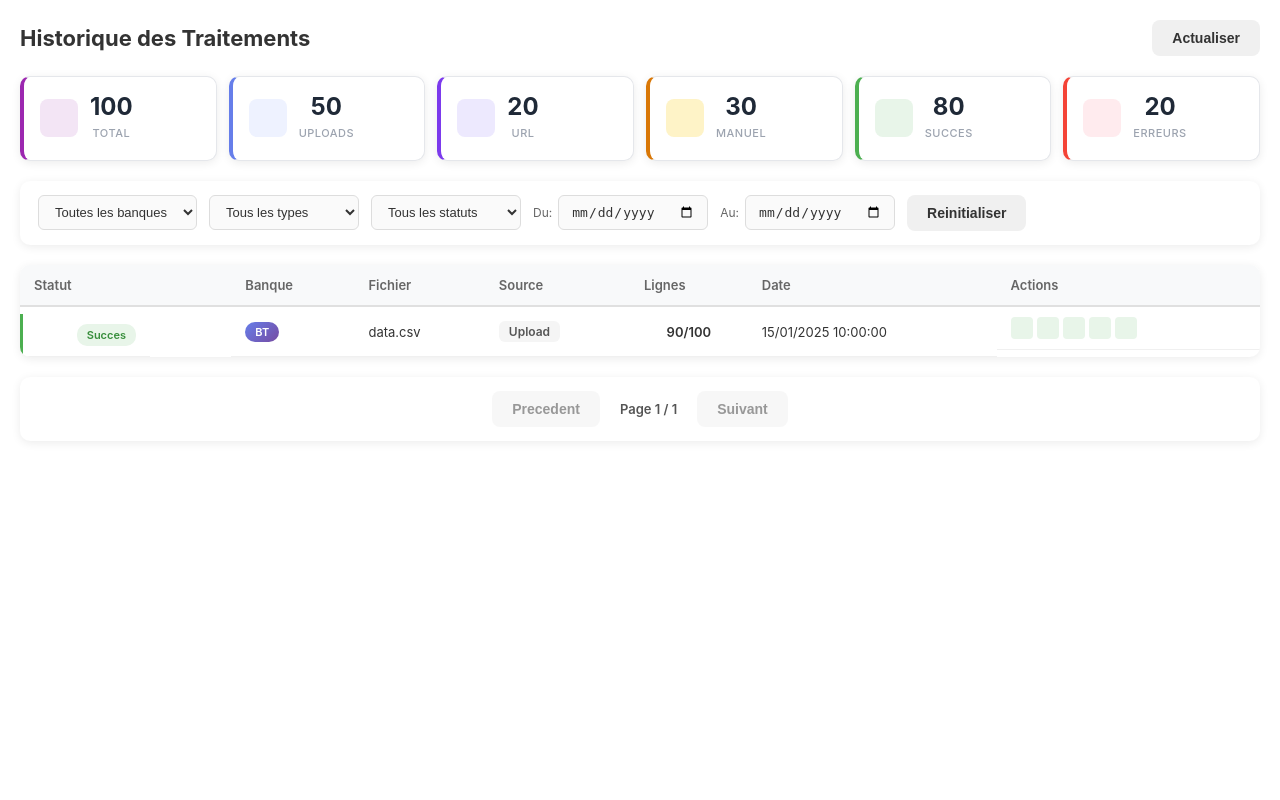
Test case: History › expands row details showing file paths, statuses, and step labels
The width and height of the screenshot is (1280, 800).
Expected: the heading "Historique des Traitements" is shown, [20, 25, 310, 51]
Click the text "data.csv".
click(420, 331)  # box [354, 306, 485, 357]
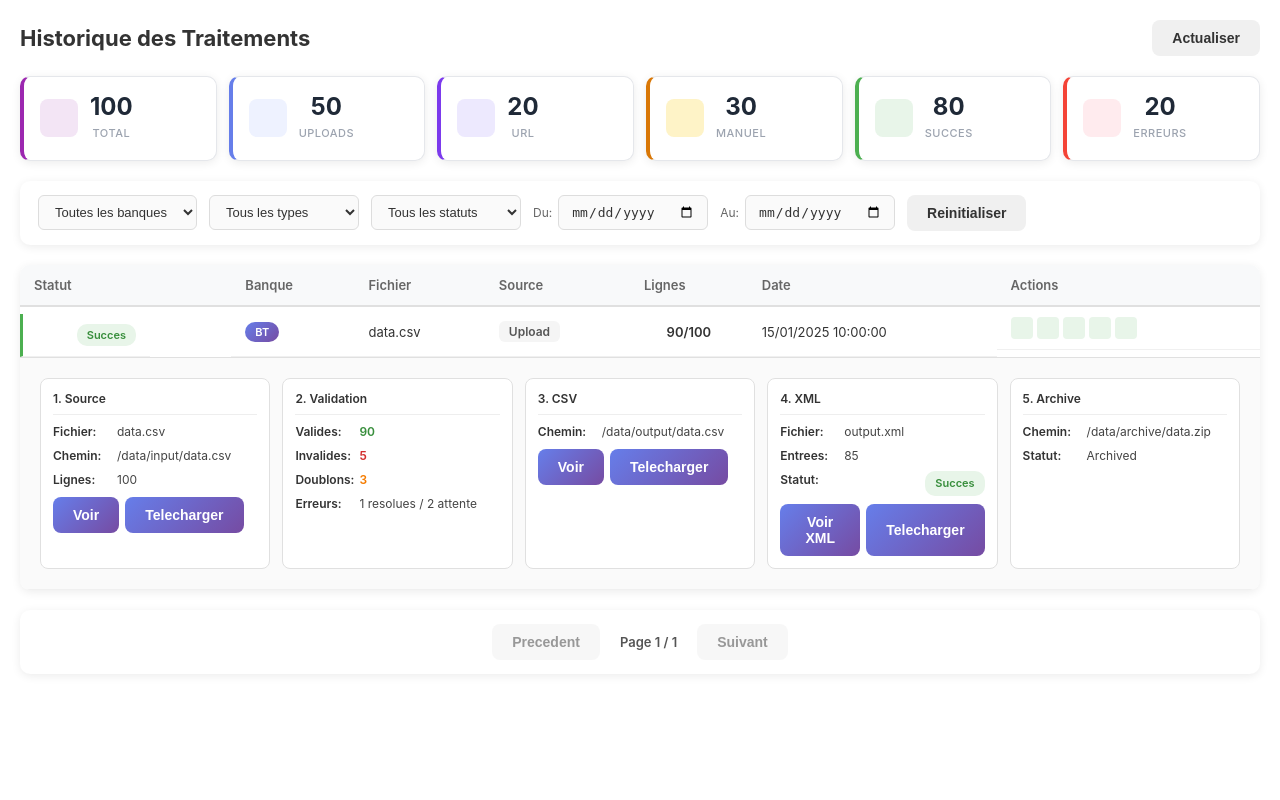
Expected: the text "1. Source" is shown, [53, 391, 106, 406]
Expected: the text "2. Validation" is shown, [295, 391, 367, 406]
Expected: the text "3. CSV" is shown, [538, 391, 577, 406]
